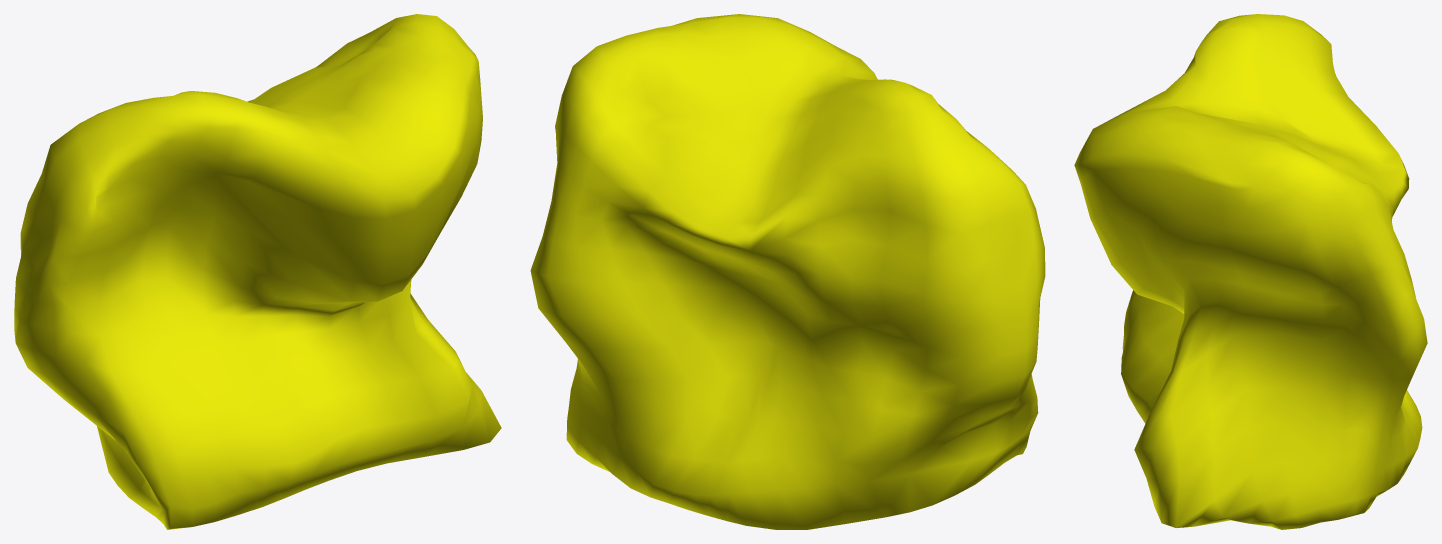
Rendered from E_Mur_04.fbx.
3 renders of one model, left to right at view 1: azimuth 30°, elevation 25°; view 2: azimuth 150°, elevation 25°; view 3: azimuth 270°, elevation 25°, orthographic. The views are drawn at different scales.
Parts seen in each view (by area): view 1: bolder98; view 2: bolder98; view 3: bolder98.
Part boxes in pixels (bbox=[...]): bolder98: bbox=[14, 14, 501, 529]; bolder98: bbox=[530, 14, 1045, 529]; bolder98: bbox=[1074, 14, 1427, 529].
Size of the model in its own units: 2.69 by 2.18 by 1.86.
